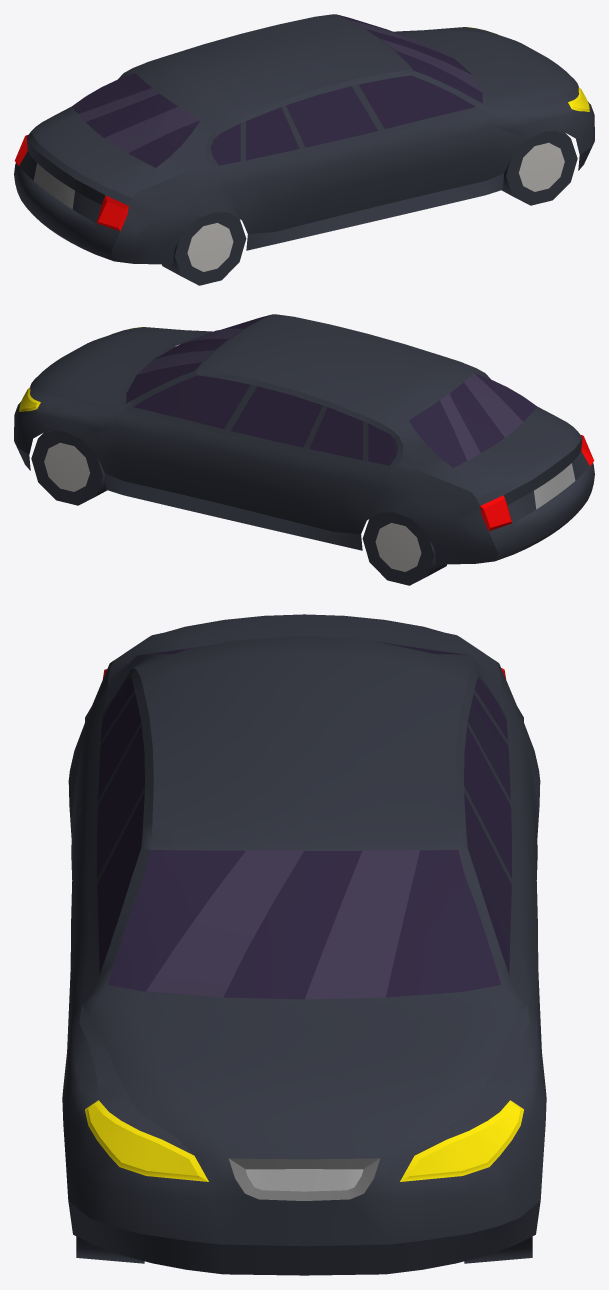
The model's file is vipcar.fbx.
3 renders of one model, top to bottom at view 1: azimuth 30°, elevation 25°; view 2: azimuth 150°, elevation 25°; view 3: azimuth 270°, elevation 25°, orthographic. The views are drawn at different scales.
Visible parts, largest first — view 1: vipcar; view 2: vipcar; view 3: vipcar.
Part boxes in pixels (x1,y1,x2,y2): vipcar: [14, 14, 594, 285]; vipcar: [14, 314, 594, 585]; vipcar: [62, 614, 546, 1275].
Size of the model in its own units: 24.97 by 7.28 by 10.
